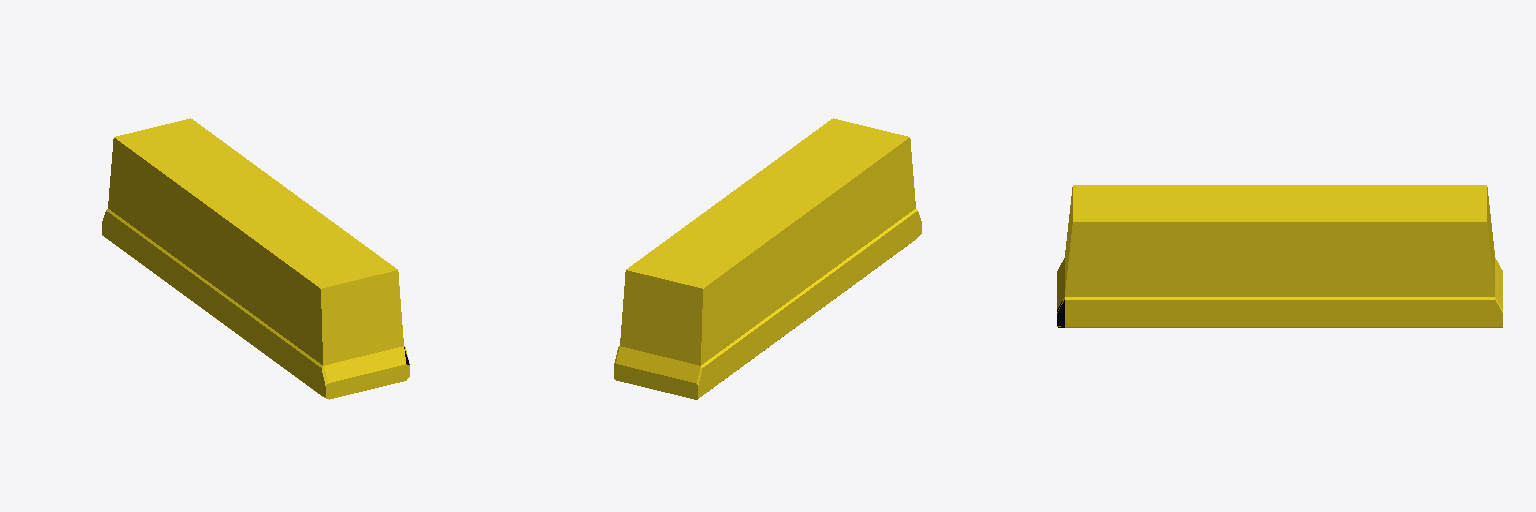
Rendered from vehicle_bus_simple.obj.
3 renders of one model, left to right at view 1: azimuth 30°, elevation 25°; view 2: azimuth 150°, elevation 25°; view 3: azimuth 270°, elevation 25°, orthographic.
Bounding box in the file's own units: 2.4 × 2.85 × 11.